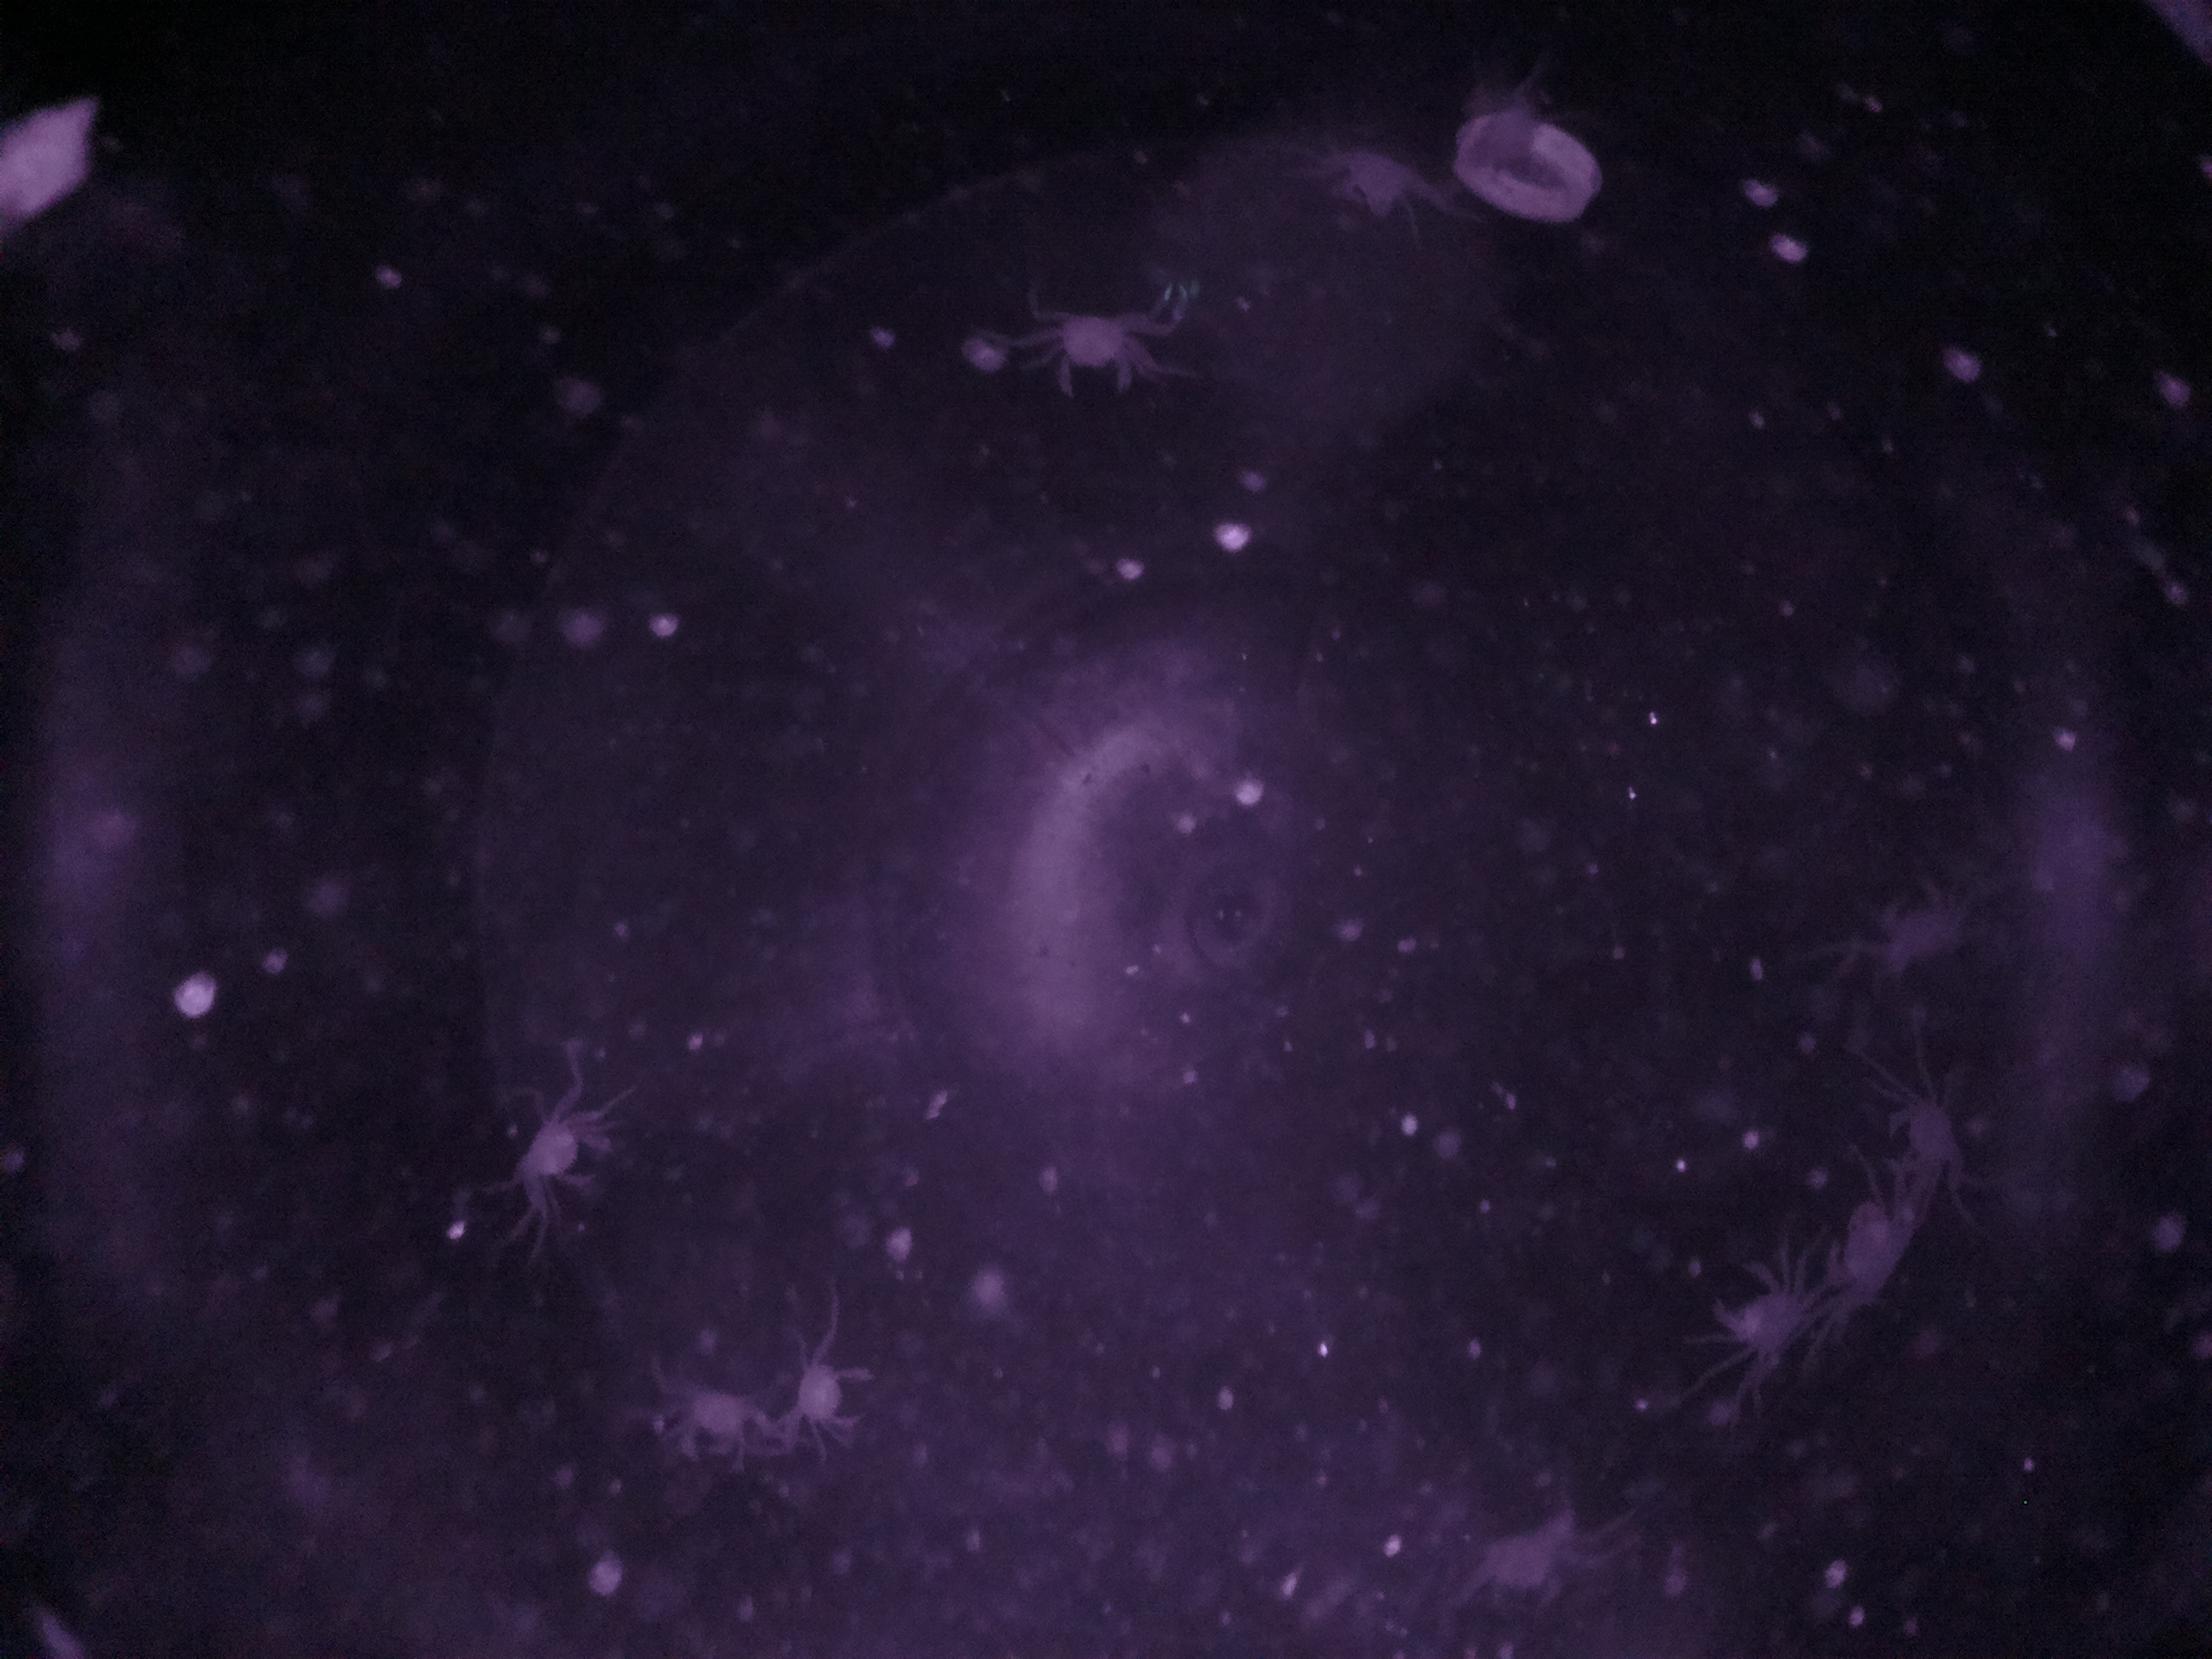Crab: (1691, 1243, 1822, 1370), (1031, 293, 1155, 415), (1857, 863, 1982, 979), (1822, 1194, 1925, 1316), (1872, 1079, 1980, 1194), (493, 1110, 625, 1197), (782, 1345, 887, 1452), (660, 1371, 765, 1466), (1331, 132, 1428, 230)
